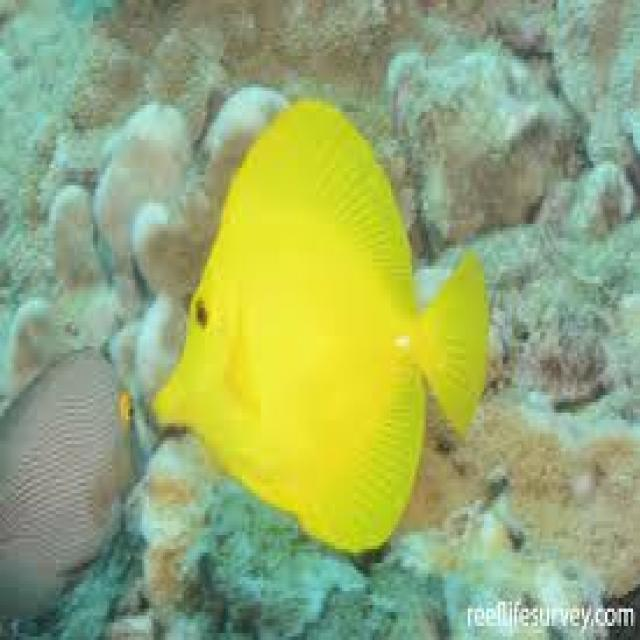TangFish: (146, 96, 489, 548)
